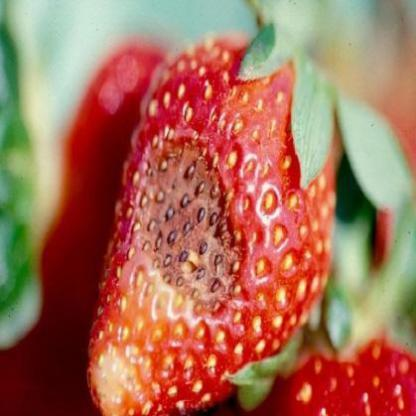Strawberry_Anthracnose_Fruit_Rot: (126, 136, 255, 320)
